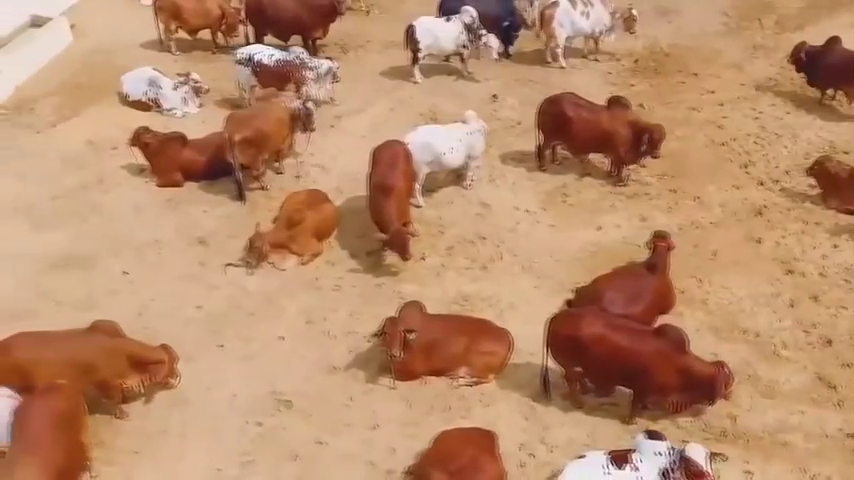bo: (526, 293, 743, 429), (516, 75, 682, 194), (546, 205, 699, 324), (5, 316, 179, 401), (378, 296, 517, 394), (538, 418, 745, 480), (349, 131, 430, 265), (399, 105, 497, 209), (237, 183, 346, 275), (220, 92, 324, 188), (8, 376, 97, 480), (534, 1, 656, 73), (224, 38, 345, 106), (124, 116, 226, 195), (402, 3, 502, 82), (390, 417, 510, 480), (776, 28, 854, 115), (242, 1, 362, 57), (435, 1, 531, 63), (111, 59, 213, 116), (145, 1, 247, 58), (794, 138, 854, 222)
